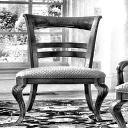chair_success: (4, 10, 110, 125)
